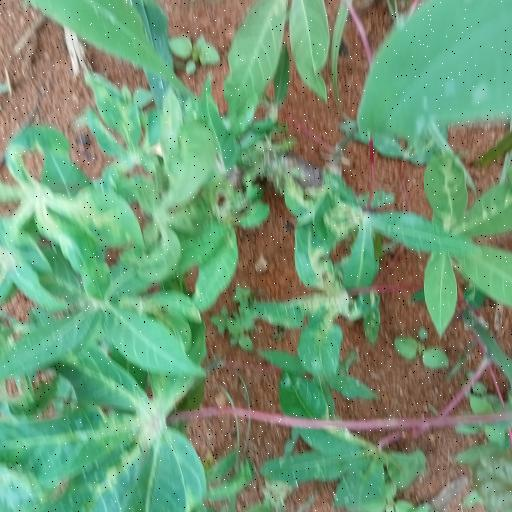Cassava_Mosaic: (2, 339, 220, 501), (0, 120, 137, 291), (386, 143, 512, 327)
